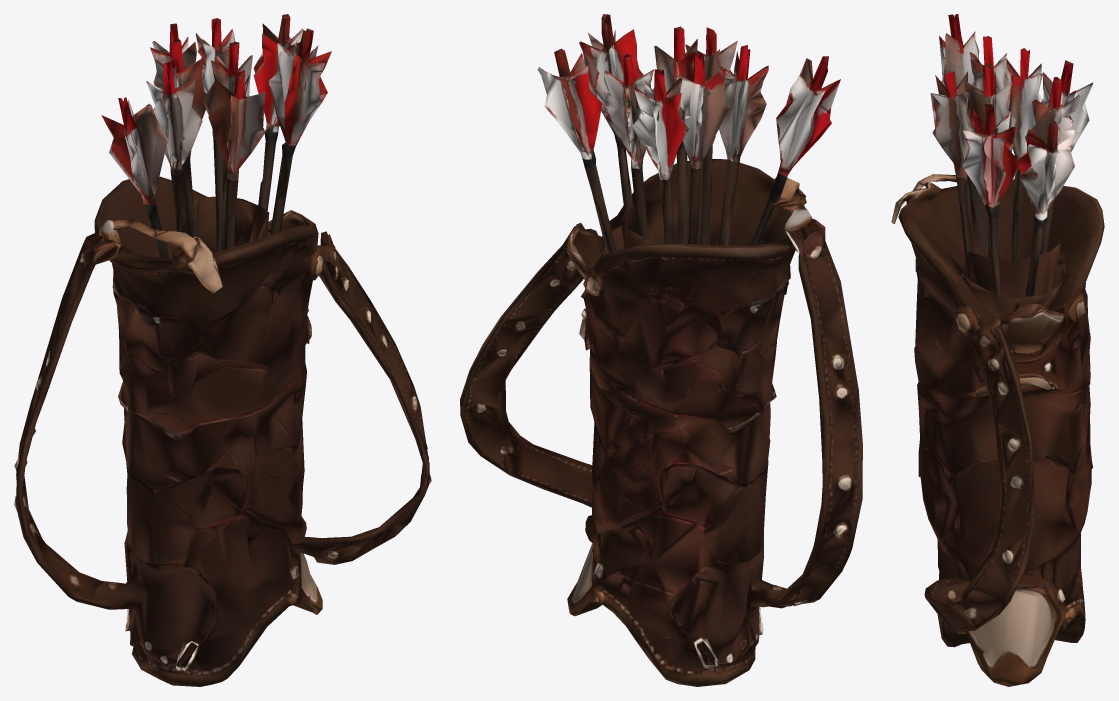
The model's file is quiver.glb.
The picture shows the model from 3 angles, left to right: view 1: azimuth 30°, elevation 25°; view 2: azimuth 150°, elevation 25°; view 3: azimuth 270°, elevation 25°; orthographic projection. The views are drawn at different scales.
Parts seen in each view (by area): view 1: quiver; view 2: quiver; view 3: quiver.
Part boxes in pixels (box(x1,y1,x2,y2)): quiver: box(14, 14, 431, 686); quiver: box(460, 14, 862, 686); quiver: box(891, 14, 1104, 686).
Size of the model in its own units: 0.475 by 0.7002 by 0.2242.
Materials: 1 (1 with a texture image).
